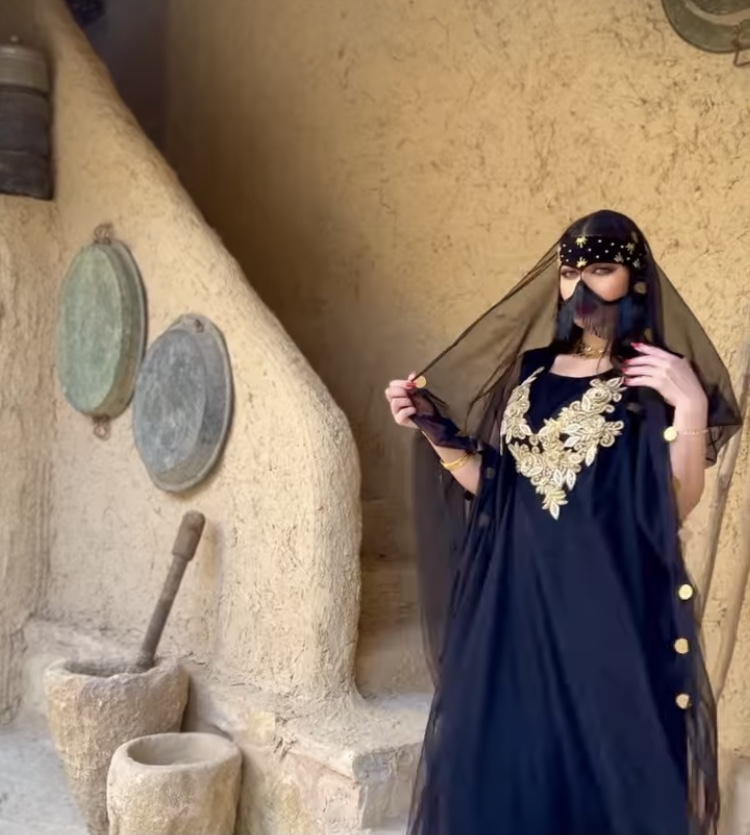Saudi_Founding_Day: (380, 206, 739, 835)
